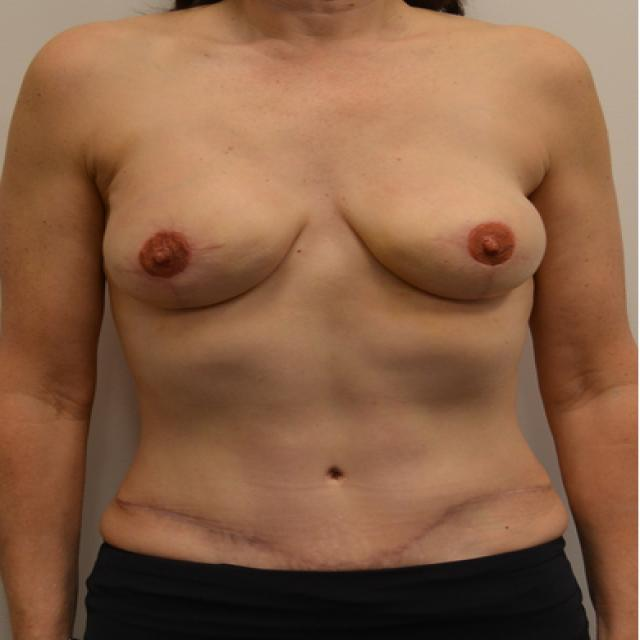Seno herido: (96, 145, 317, 322), (328, 145, 554, 313)
